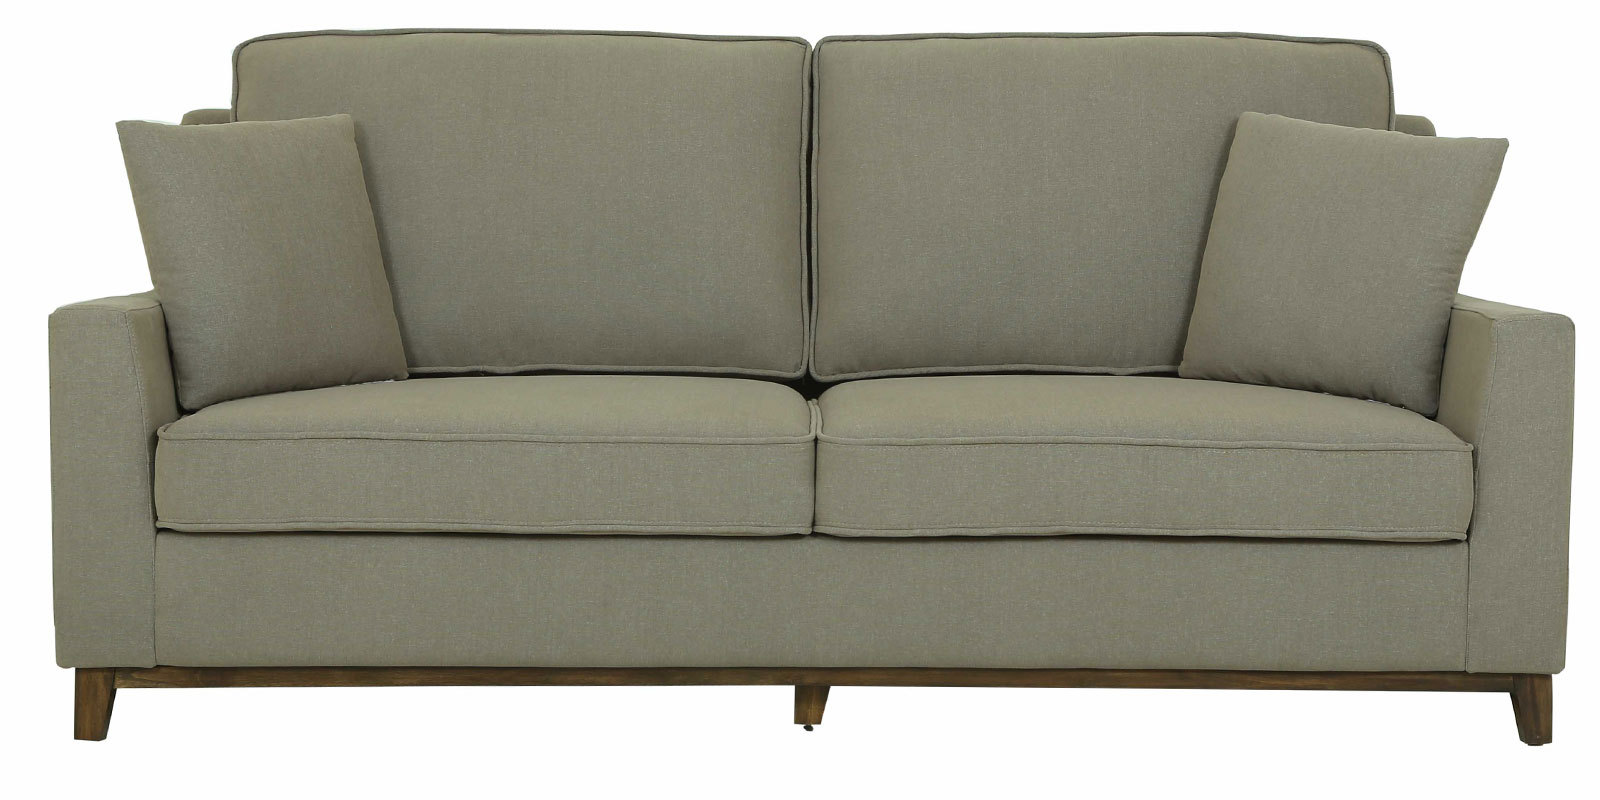Diego Three Seater Sofa in Sandy Colour by CasaCraft: (39, 11, 1573, 771)
